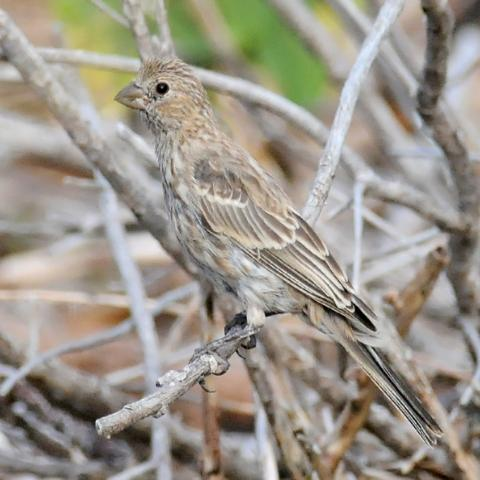bird: (112, 51, 446, 450)
